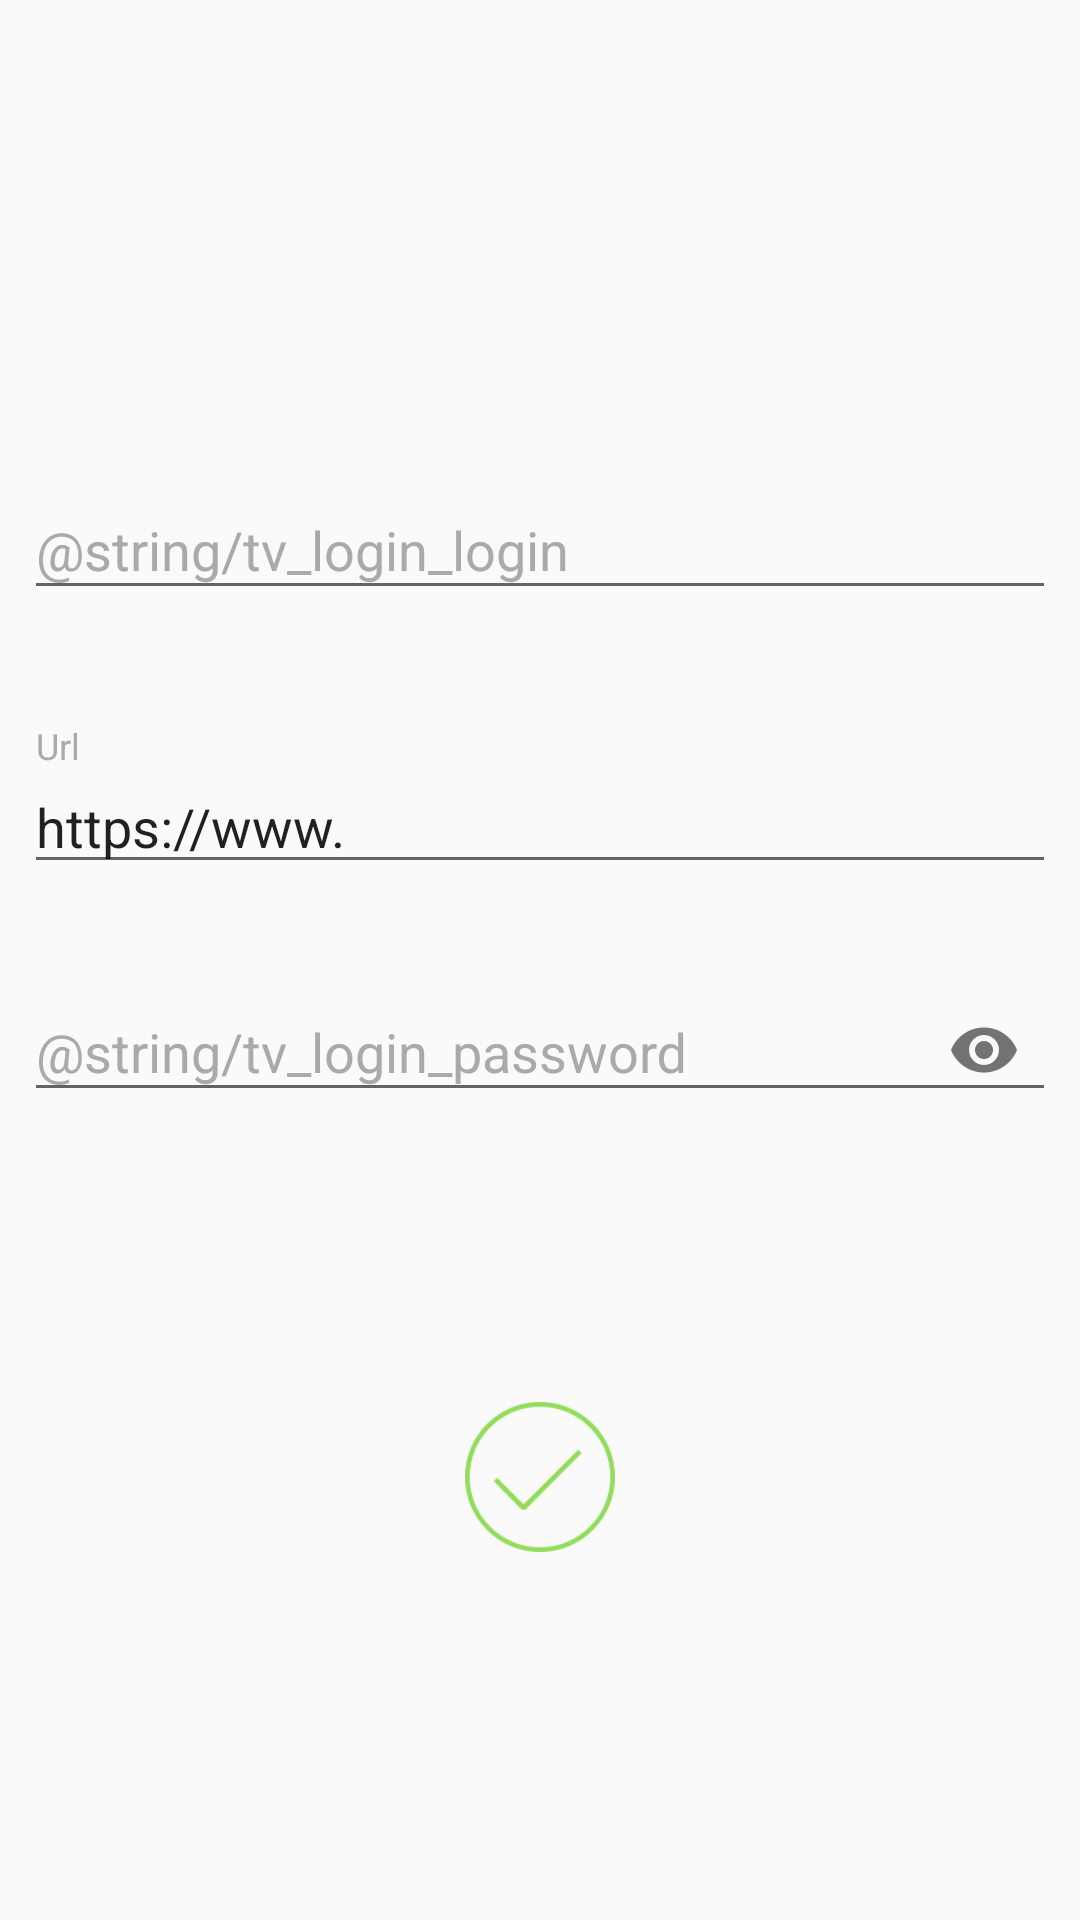

Named icons in this screenshot (1080 × 1920) and their centers, (x,y):
checked: (540,1477)
